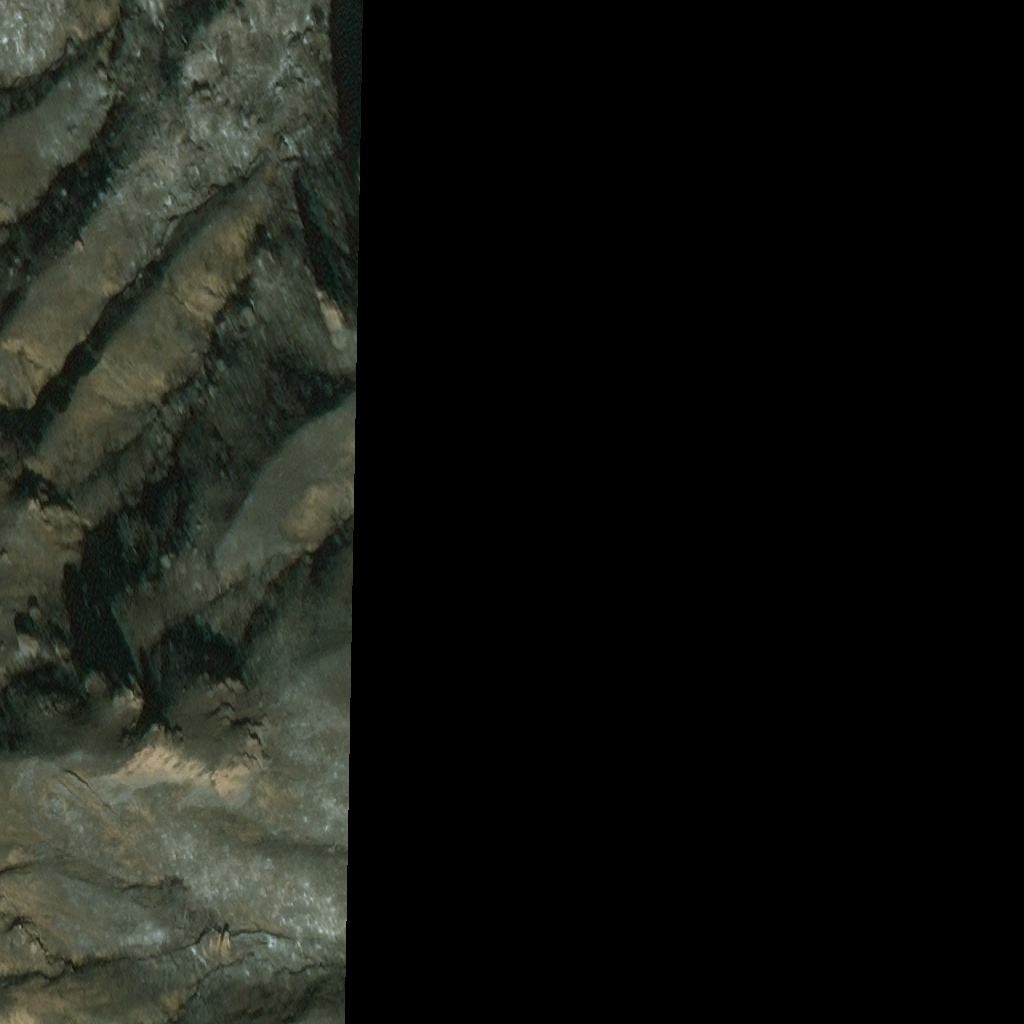4 un-classified: (14, 626, 36, 645)
